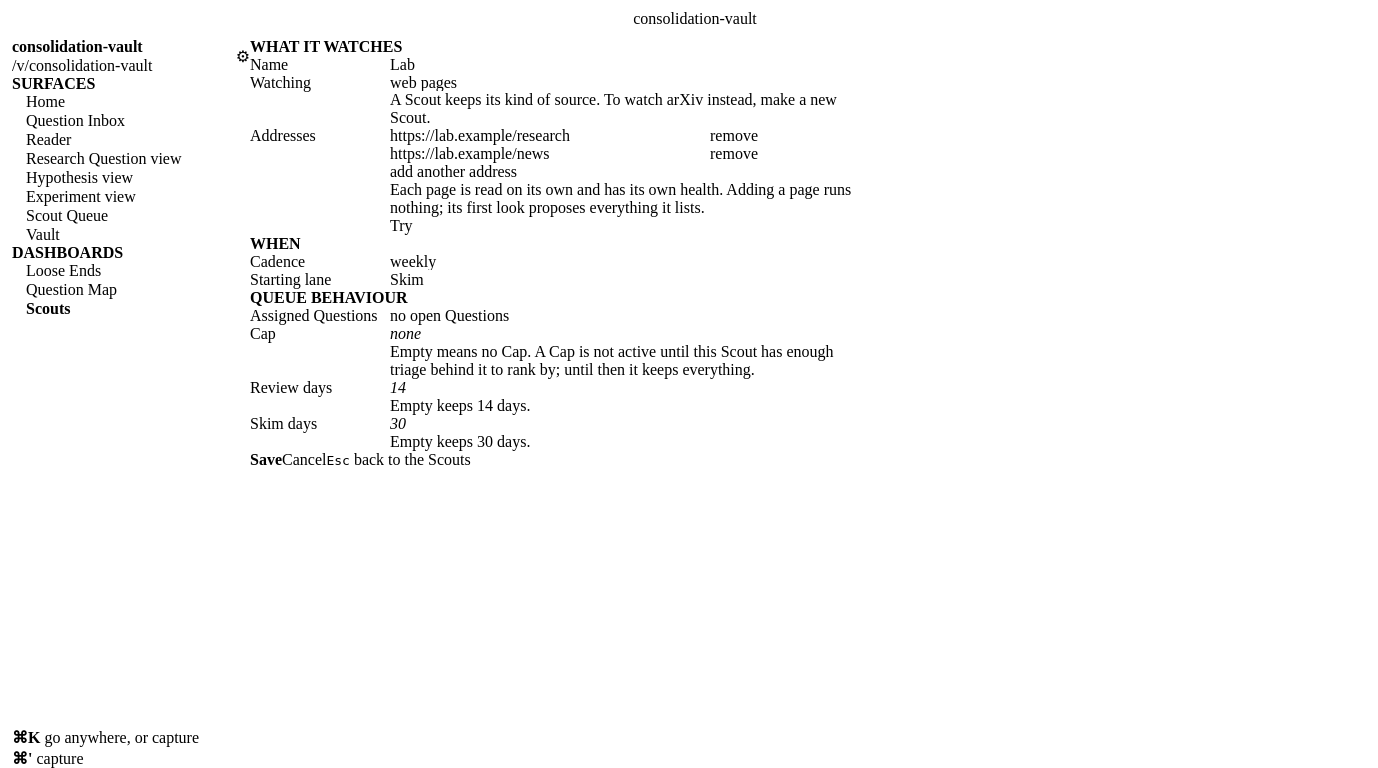
Test case: the form's Addresses › disables remove while one page is left, beside the sentence that says why
This screenshot has width=1378, height=768.
Check: the form named "Edit Lab" is shown, box [250,38,851,469]
Click the 2nd button "remove".
click(734, 154)  # box [710,145,758,163]
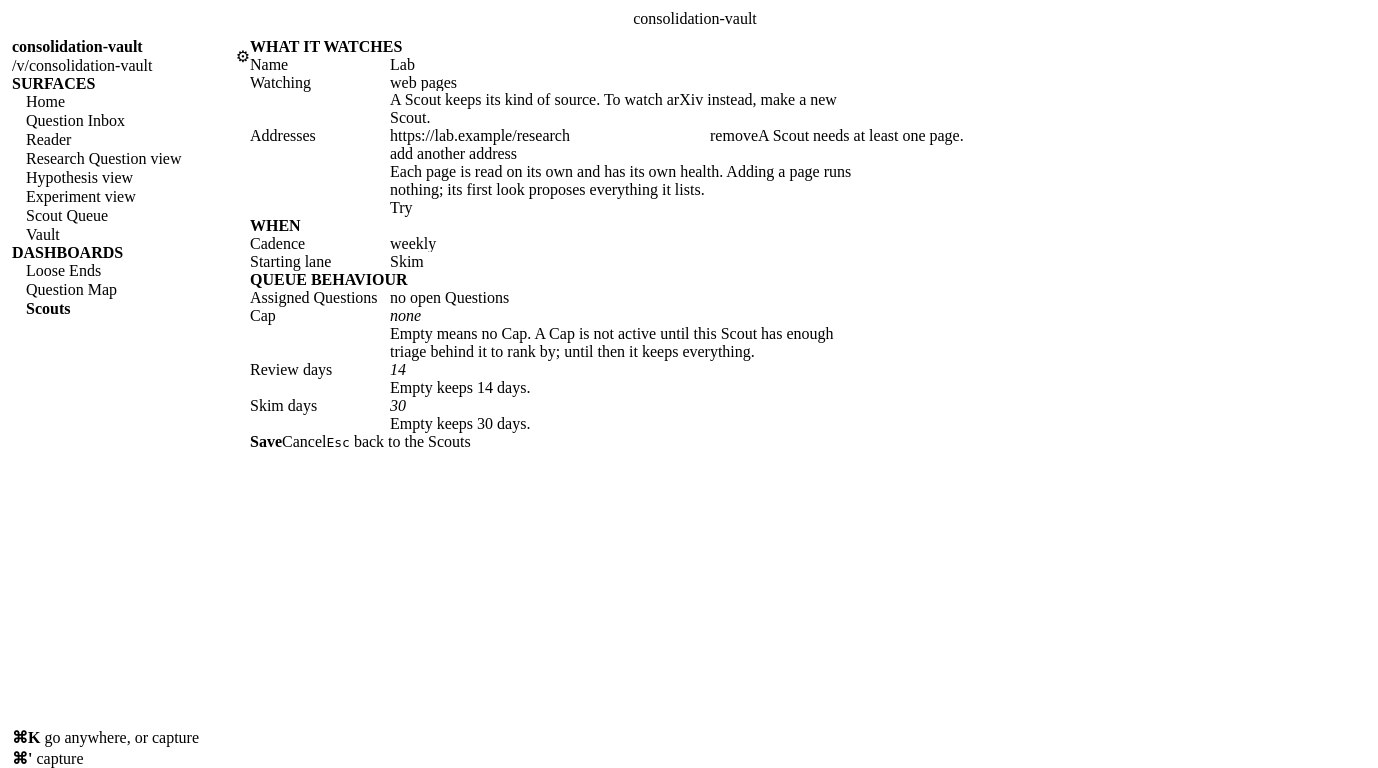
Note: Not before: two pages can each be removed.
Click the button "add another address".
click(454, 154)  # box [390,145,517,163]
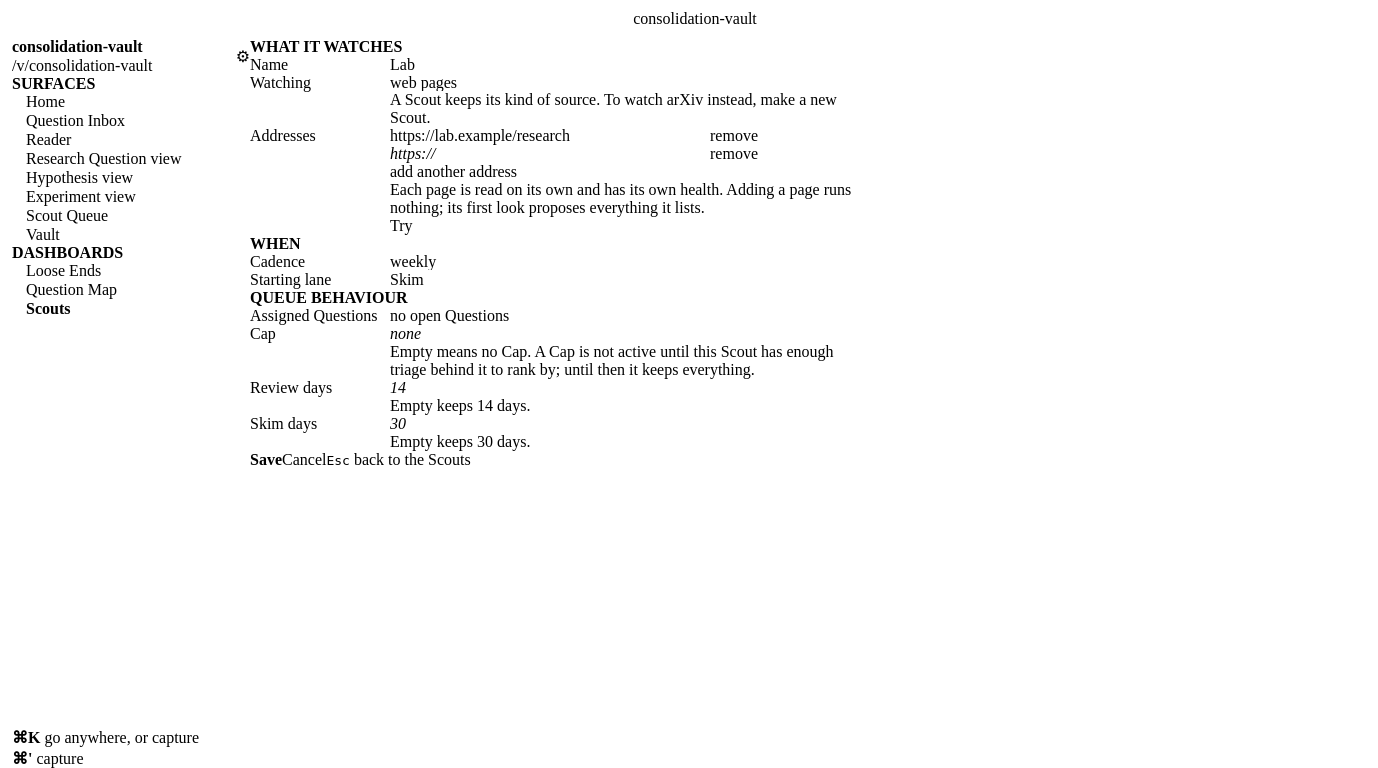
Check: the text "A Scout needs at least one page." is gone
